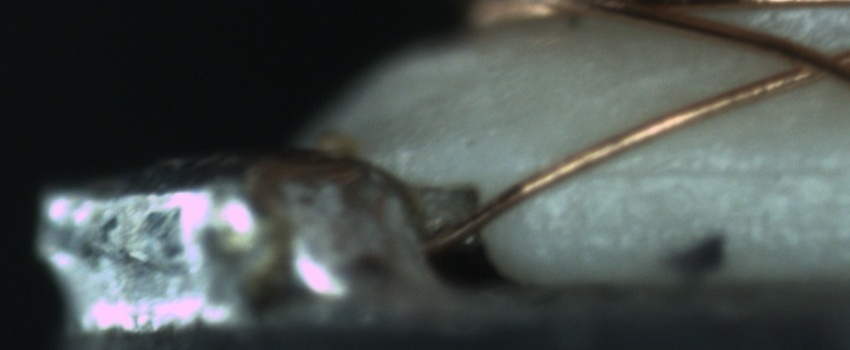CL: (767, 36, 847, 89)
DL: (563, 138, 844, 208)
